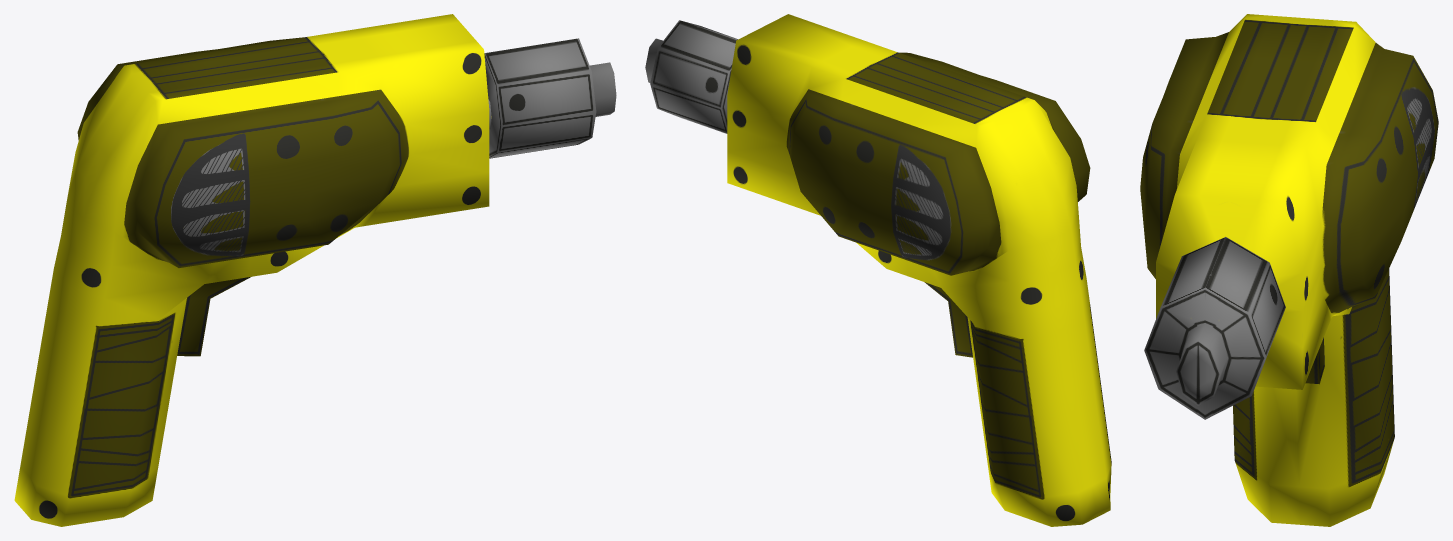
Rendered from PowerDrill.FBX.
3 views of the same model, side by side, from view 1: azimuth 30°, elevation 25°; view 2: azimuth 150°, elevation 25°; view 3: azimuth 270°, elevation 25° (orthographic). The views are drawn at different scales.
Parts seen in each view (by area): view 1: PowerDrill; view 2: PowerDrill; view 3: PowerDrill.
Part boxes in pixels (x1=…): PowerDrill: x1=14, y1=14, x2=616, y2=526; PowerDrill: x1=645, y1=14, x2=1111, y2=526; PowerDrill: x1=1140, y1=14, x2=1438, y2=526.
Size of the model in its own units: 15.19 by 10.96 by 5.88.
1 material, 1 textured.
